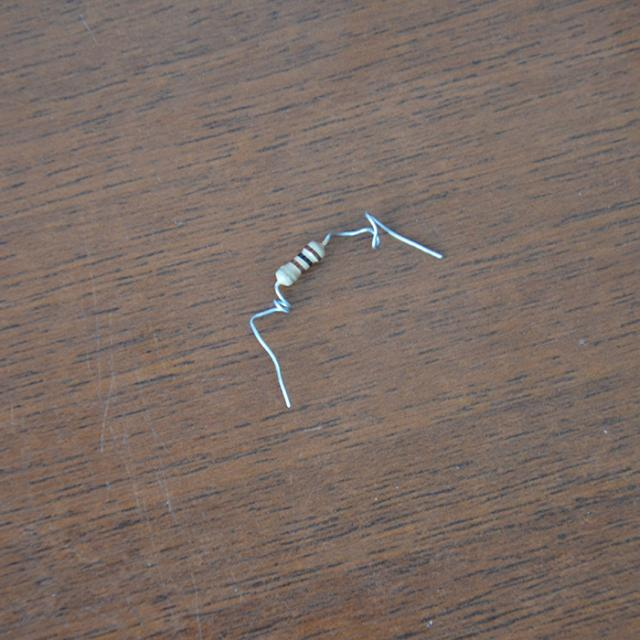black: (298, 252, 314, 265)
brown: (305, 244, 321, 261), (291, 258, 305, 272)
gold: (279, 268, 296, 283)
resistor: (268, 232, 332, 290)
